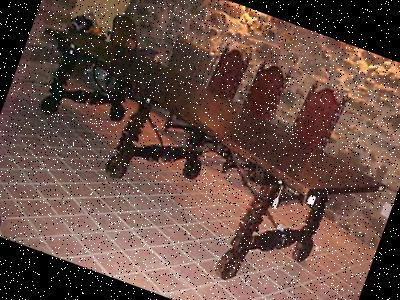Mesa: (0, 15, 399, 299)
Silla: (238, 64, 357, 220), (202, 49, 295, 182), (162, 30, 258, 158)
